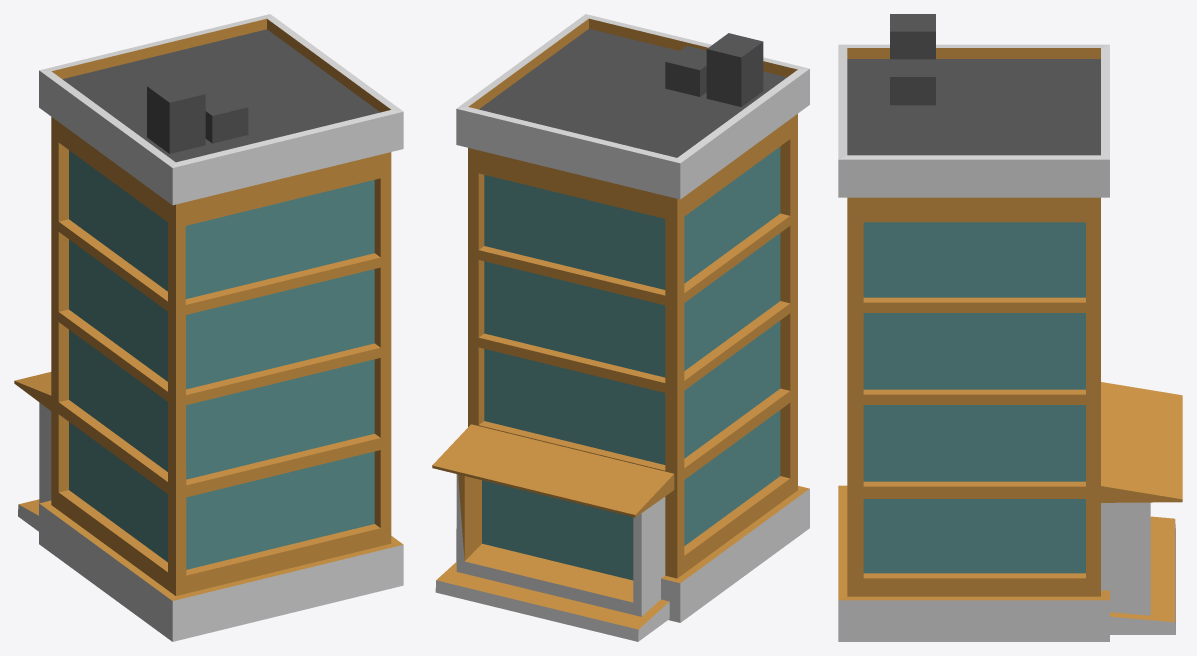
The model's file is CartoonHouse5.fbx.
The picture shows the model from 3 angles, left to right: view 1: azimuth 30°, elevation 25°; view 2: azimuth 150°, elevation 25°; view 3: azimuth 270°, elevation 25°; orthographic projection. The views are drawn at different scales.
Visible parts, largest first — view 1: House_3; view 2: House_3; view 3: House_3.
Part boxes in pixels (left/top/right/bottom): House_3: left=14, top=14, right=403, bottom=641; House_3: left=432, top=14, right=809, bottom=641; House_3: left=838, top=14, right=1182, bottom=641.
Bounding box in the file's own units: 232 × 493 × 293.
